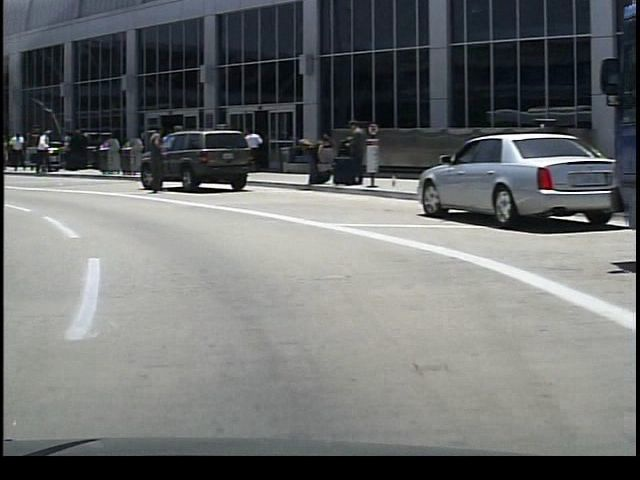person: (330, 119, 368, 190), (136, 116, 165, 201), (297, 128, 327, 185), (27, 125, 55, 178), (239, 123, 261, 173), (7, 129, 26, 177)
